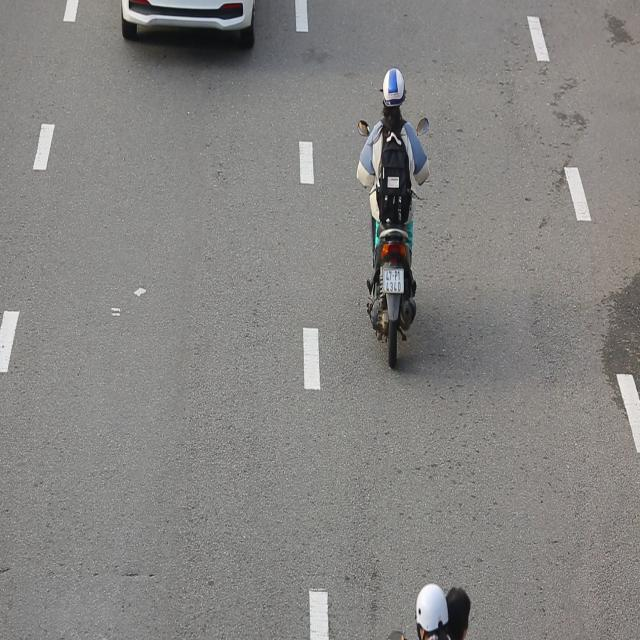motorbike: (353, 60, 432, 377)
